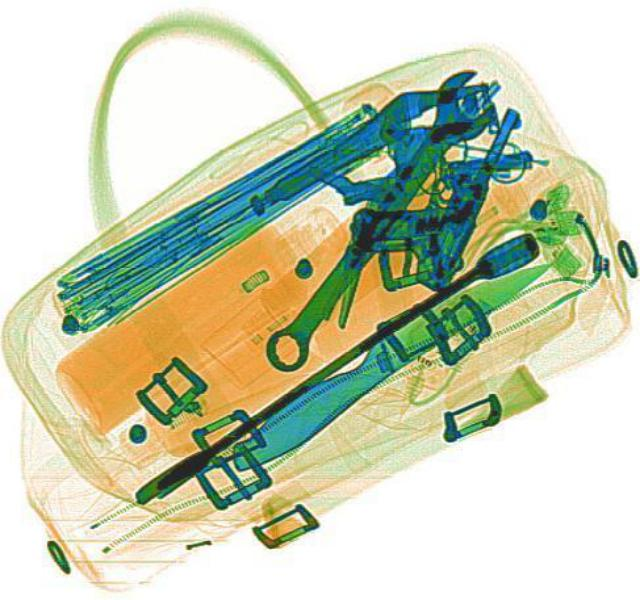Gun: (336, 79, 516, 286)
Knife: (215, 242, 561, 475)
Wrench: (243, 60, 512, 378)
